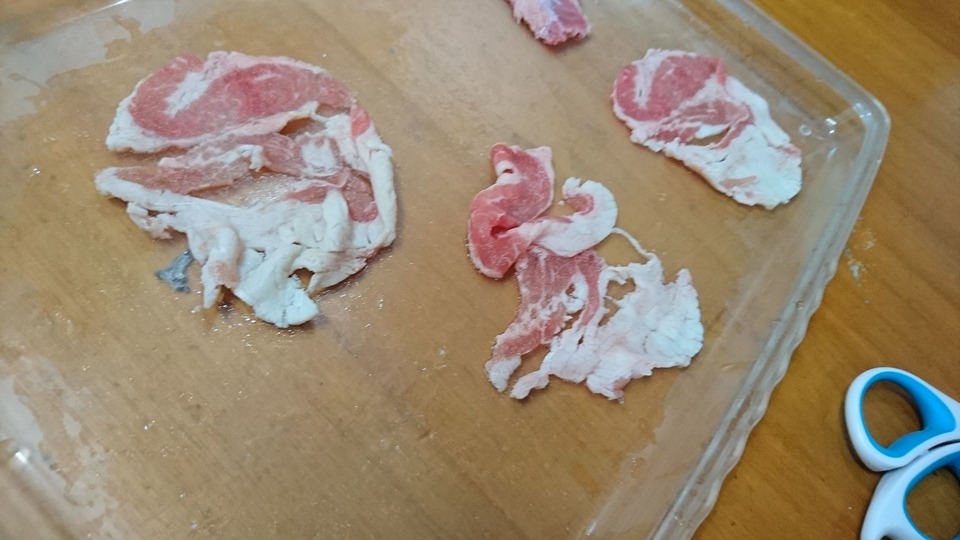restructured meat: (100, 46, 403, 330), (449, 127, 707, 409), (603, 40, 813, 213)
